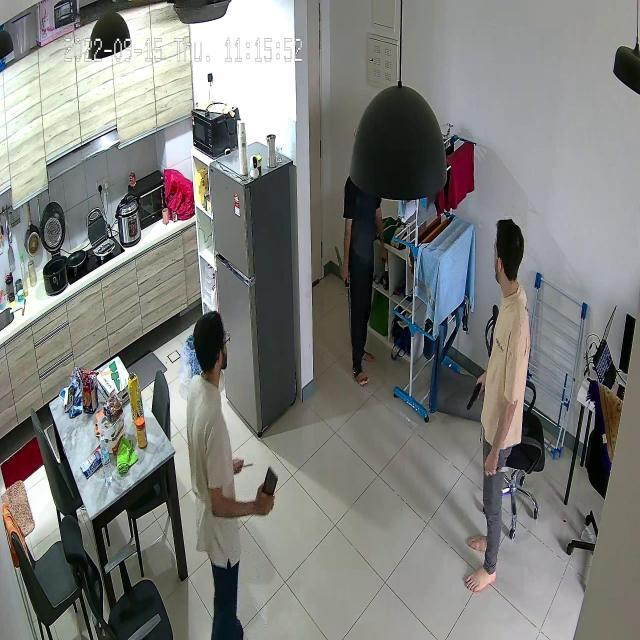Knife: (485, 460, 520, 485)
